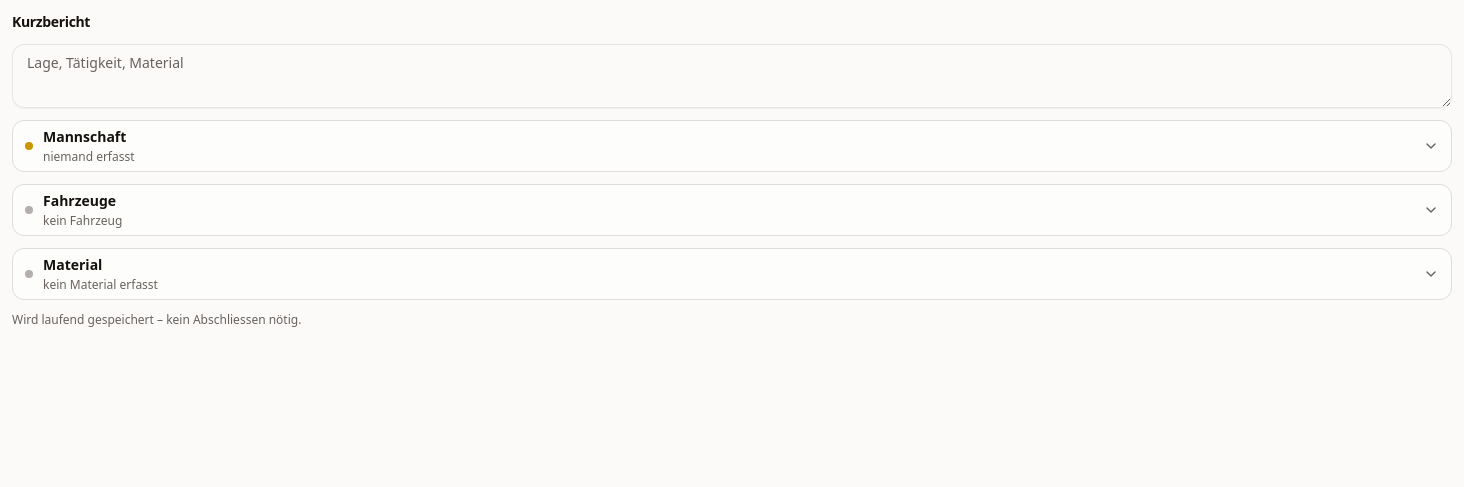
Scenario: the rapport is folded into blocks on /feld › folds the KP mount's LISTS but never its Kurzbericht
Expected: the text box with placeholder "Lage, Tätigkeit, Material" is shown, [12,44,1452,108]
Click the button "Material kein Material erfasst".
click(73, 264)  # box [13,249,1451,299]
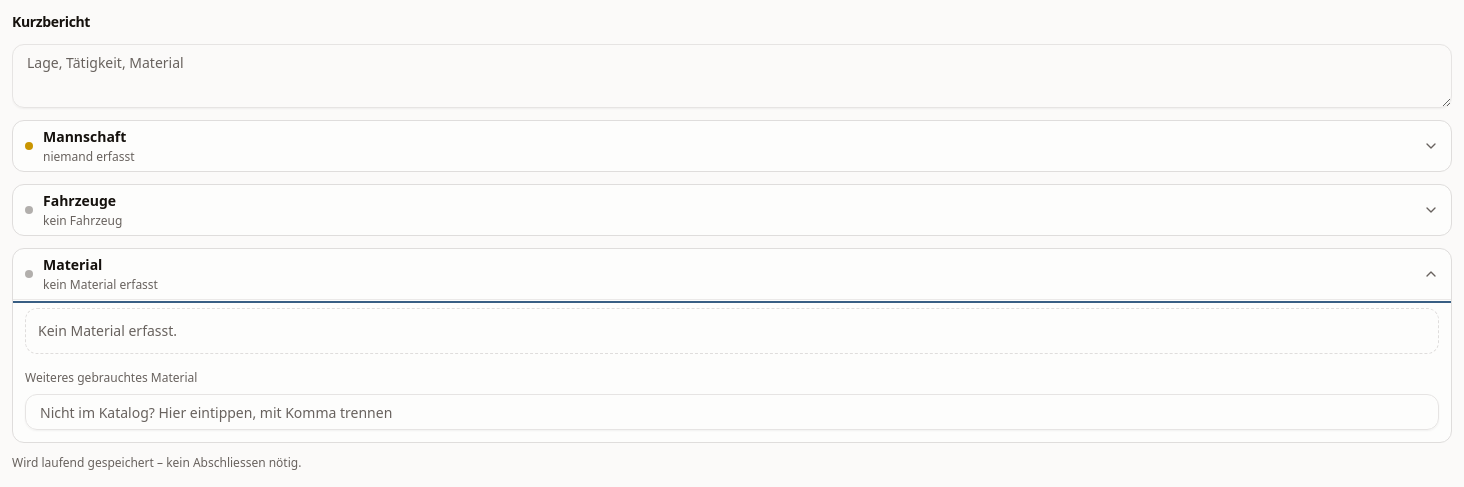
Expected: the text "Kein Material erfasst." is shown, [25,308,1439,354]
